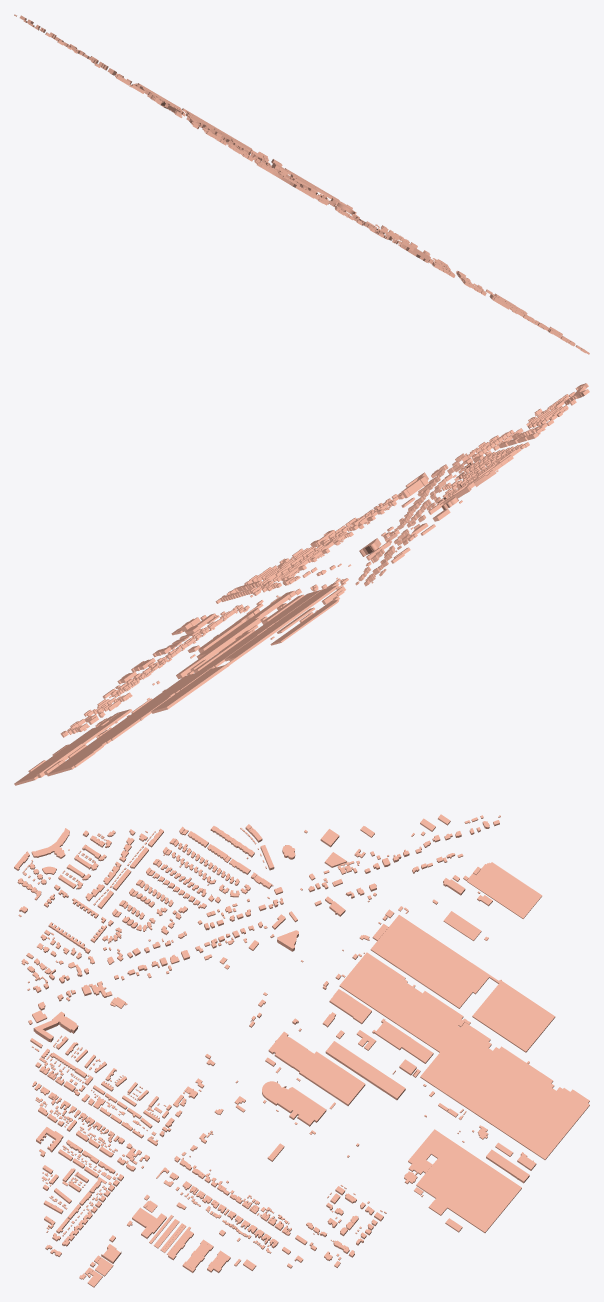
The picture shows the model from 3 angles, top to bottom: view 1: azimuth 30°, elevation 25°; view 2: azimuth 150°, elevation 25°; view 3: azimuth 270°, elevation 25°; orthographic projection. The views are drawn at different scales.
Size of the model in its own units: 1058 by 773 by 1390.
